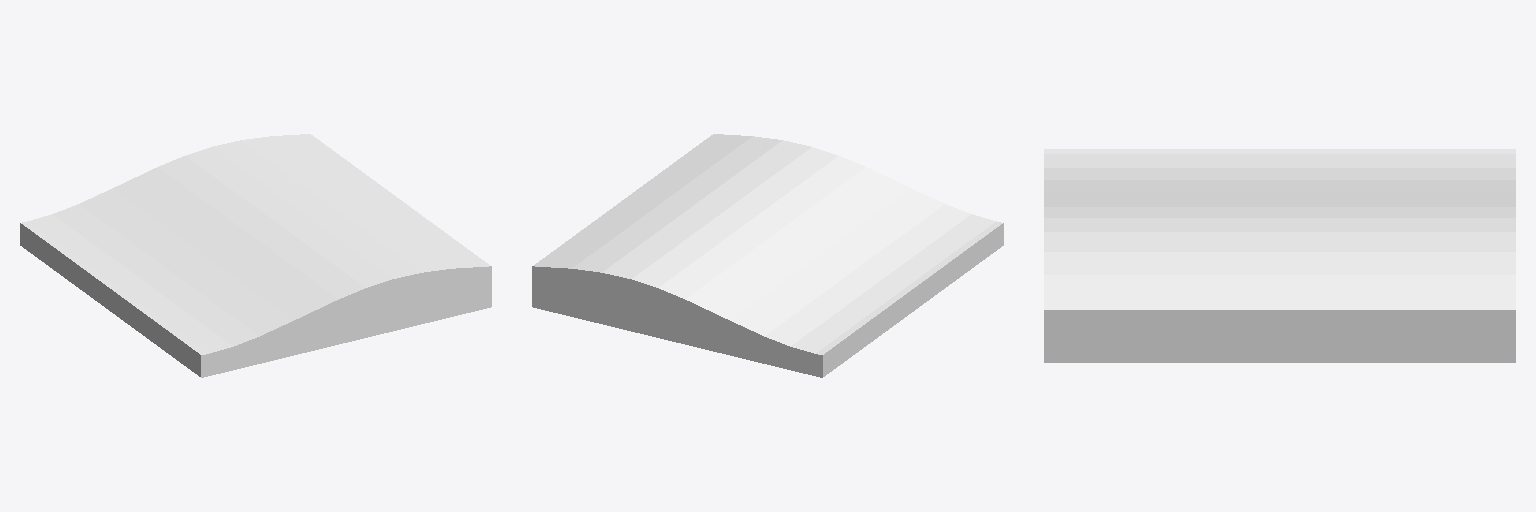
The robot description file, URDF, robot "wave2.sldprt":
<?xml version="1.0" encoding="utf-8"?>
<!-- This URDF was automatically created by SolidWorks to URDF Exporter! Originally created by [author] ([email redacted]) 
     Commit Version: 1.5.1-0-g916b5db  Build Version: 1.5.7152.31018
     For more information, please see http://wiki.ros.org/sw_urdf_exporter -->
<robot
  name="wave2.sldprt">
  <link
    name="wave2">
    <inertial>
      <origin
        xyz="0.42711 0.4 0.00258419999999998"
        rpy="0 0 0" />
      <mass
        value="32.671" />
      <inertia
        ixx="1.7782"
        ixy="4.93060000000036E-05"
        ixz="-0.058488"
        iyy="1.2954"
        iyz="-2.23359999998955E-05"
        izz="3.0021" />
    </inertial>
    <visual>
      <origin
        xyz="0 0 0"
        rpy="1.5707963267949 0 0" />
      <geometry>
        <mesh
          filename="package://wave2/meshes/wave2.STL" />
      </geometry>
      <material
        name="">
        <color
          rgba="1 1 1 1" />
        <texture
          filename="package://wave2/textures/" />
      </material>
    </visual>
    <collision>
      <origin
        xyz="0 0 0"
        rpy="1.5707963267949 0 0" />
      <geometry>
        <mesh
          filename="package://wave2/meshes/wave2.STL" />
      </geometry>
    </collision>
  </link>
</robot>

--- Render facts (derived) ---
Views: 3 orthographic renders of the robot side by side, from view 1: azimuth 30°, elevation 25°; view 2: azimuth 150°, elevation 25°; view 3: azimuth 270°, elevation 25°.
Model wave2.sldprt with 1 links and 0 joints (none), rooted at wave2, posed all joints at 0.
Visible links, largest first — view 1: wave2; view 2: wave2; view 3: wave2.
Link boxes in pixels (x1,y1,x2,y2): wave2: (20,134,491,377); wave2: (532,134,1003,377); wave2: (1044,149,1515,362).
Bounding box of the posed robot: 0.74 × 0.8 × 0.127 m (x, y, z).
1 mesh visuals loaded from 1 distinct referenced files (1 binary STL).